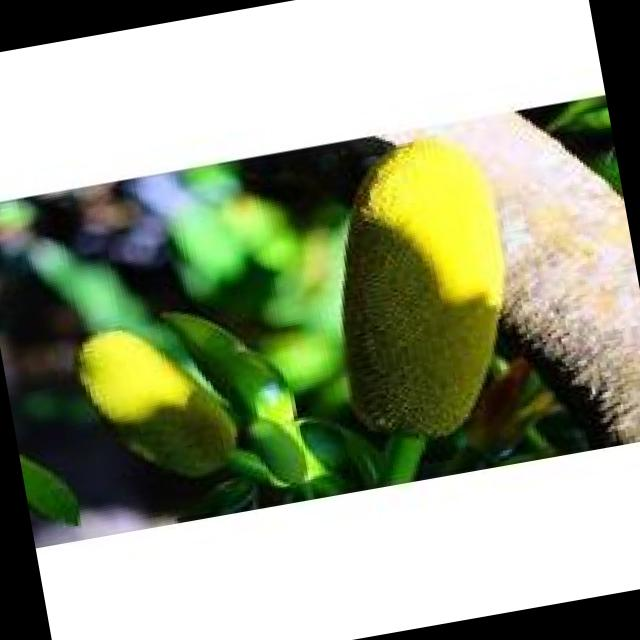Fruit: (287, 114, 564, 468)
